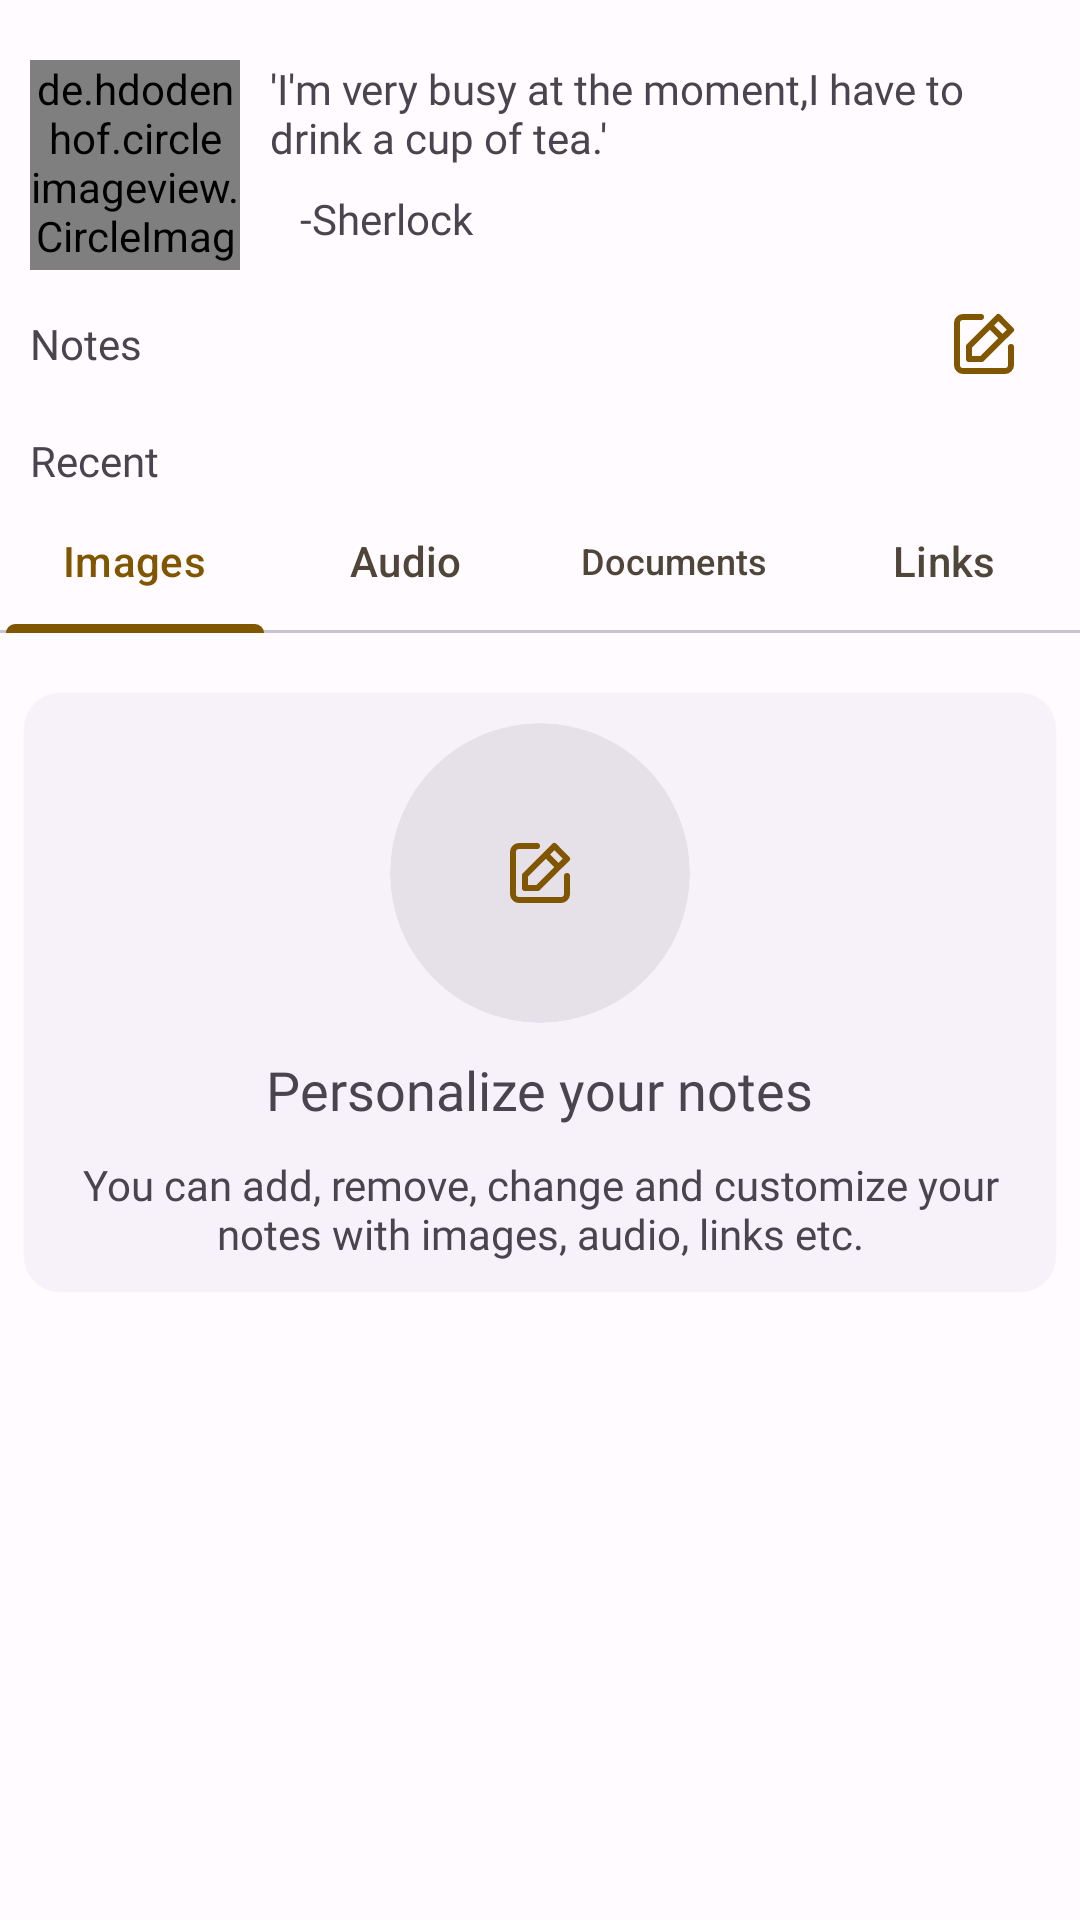

Where icons sit on this 1080px x 1920px app screen, as (x1, y1, x2, y2):
edit: (954, 313, 1015, 374), (510, 842, 571, 903)
